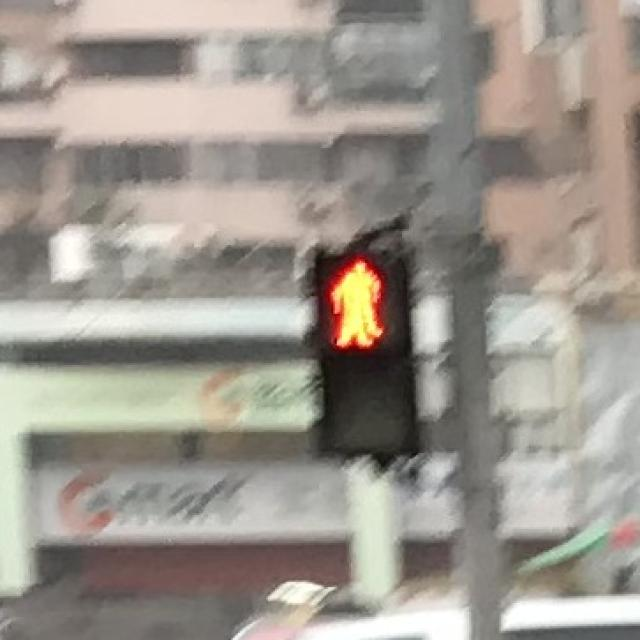red_light: (312, 247, 397, 351)
